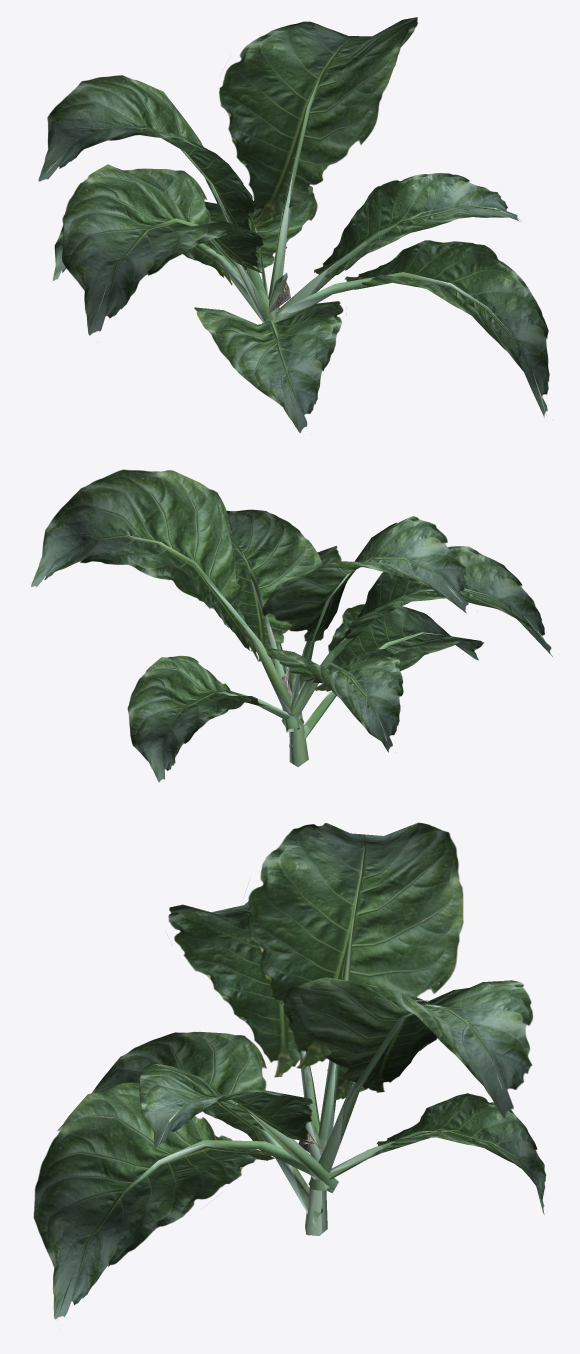
Rendered from talas_01_A_001.glb.
3 renders of one model, top to bottom at view 1: azimuth 30°, elevation 25°; view 2: azimuth 150°, elevation 25°; view 3: azimuth 270°, elevation 25°, orthographic. The views are drawn at different scales.
Parts seen in each view (by area): view 1: talas_01_A.001; view 2: talas_01_A.001; view 3: talas_01_A.001.
Boxes of the visible parts, left/top/right/bottom form: talas_01_A.001: left=38, top=17, right=549, bottom=432; talas_01_A.001: left=31, top=469, right=552, bottom=782; talas_01_A.001: left=33, top=822, right=545, bottom=1319.
Bounding box in the file's own units: 0.9303 × 0.5442 × 0.7982.
Materials: 3 (3 with a texture image).
